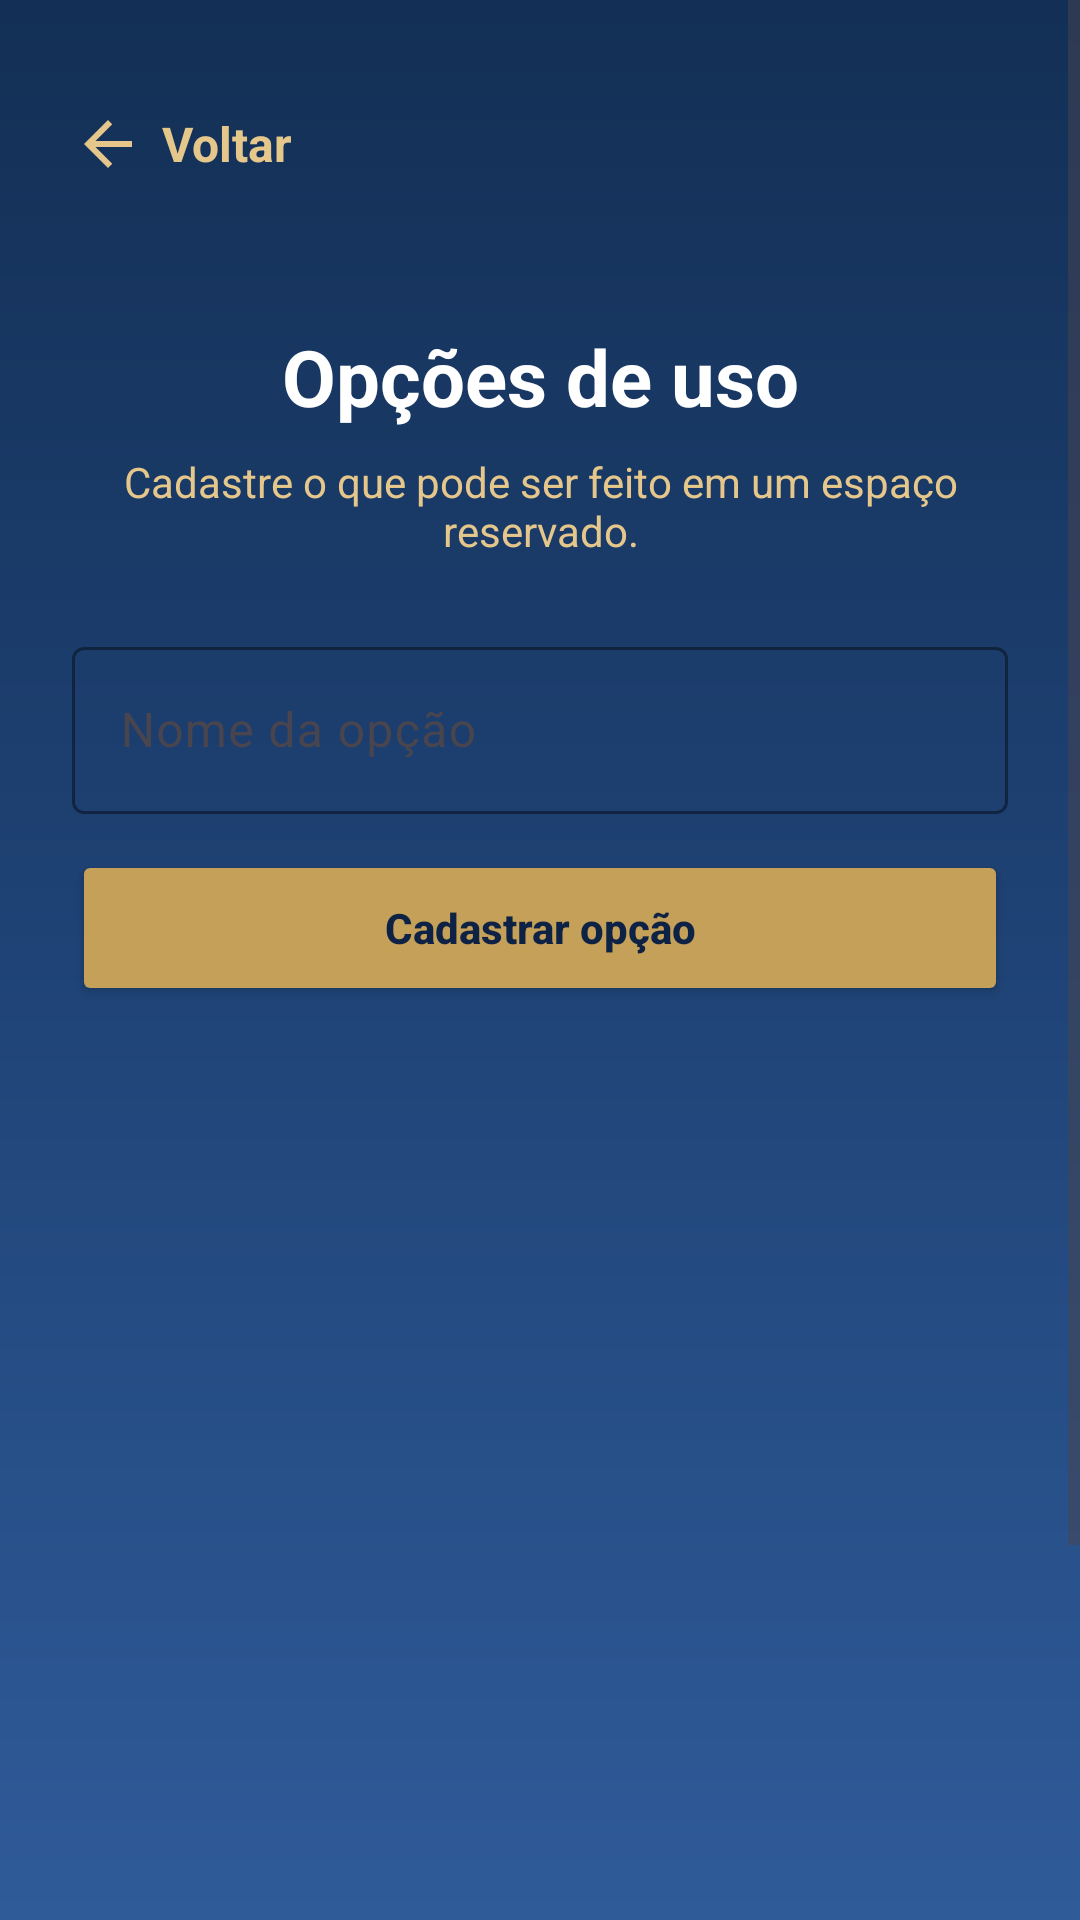

Where icons sit on this 1080w x 1920h app screen, as {"x1": x1, "y1": y1, "x2": x2, "y2": y2}:
arrow back yarooms: {"x1": 84, "y1": 120, "x2": 132, "y2": 168}
